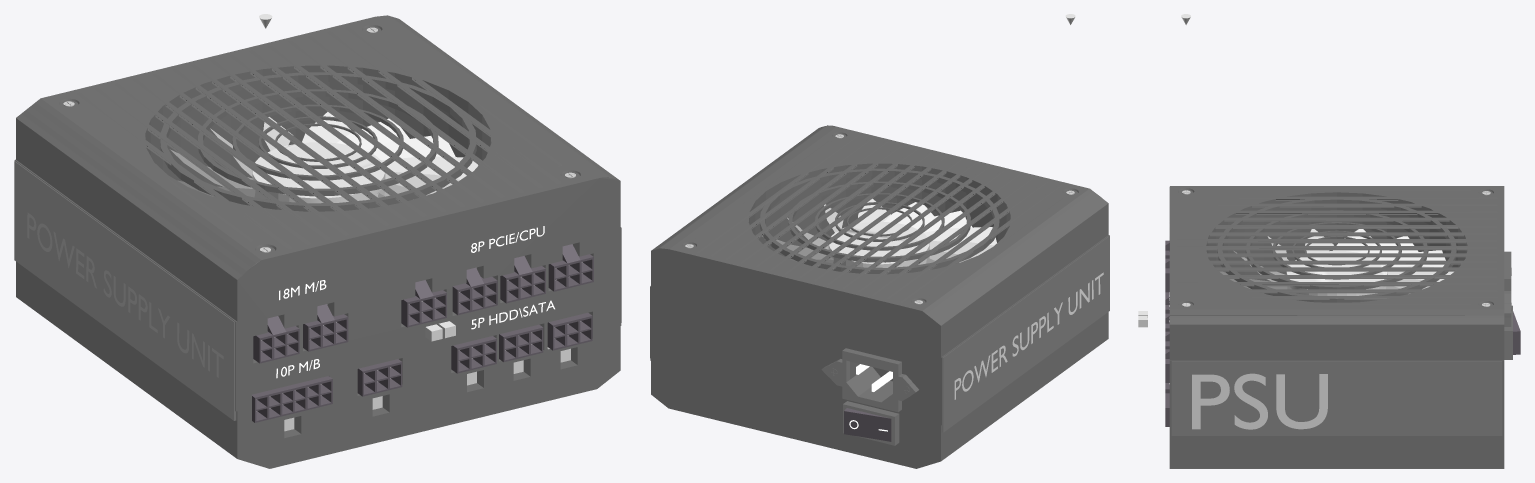
File: fuentedepoder.glb
The picture shows the model from 3 angles, left to right: view 1: azimuth 30°, elevation 25°; view 2: azimuth 150°, elevation 25°; view 3: azimuth 270°, elevation 25°; orthographic projection. The views are drawn at different scales.
Visible parts, largest first — view 1: Object_6, Object_4, Object_12, Object_38; view 2: Object_6, Object_12, Object_4; view 3: Object_6, Object_12, Object_4.
Boxes of the visible parts, x1,y1,x2,y2 form: Object_6: (14, 15, 621, 468); Object_4: (27, 14, 593, 431); Object_12: (14, 161, 621, 420); Object_38: (276, 226, 554, 378); Object_6: (650, 125, 1109, 468); Object_12: (650, 236, 1109, 445); Object_4: (685, 14, 1103, 441); Object_6: (1169, 186, 1504, 468); Object_12: (1171, 251, 1512, 435); Object_4: (1138, 14, 1520, 429).
Bounding box in the file's own units: 20.45 × 21.94 × 22.73.
Materials: 4 (4 with a texture image).
